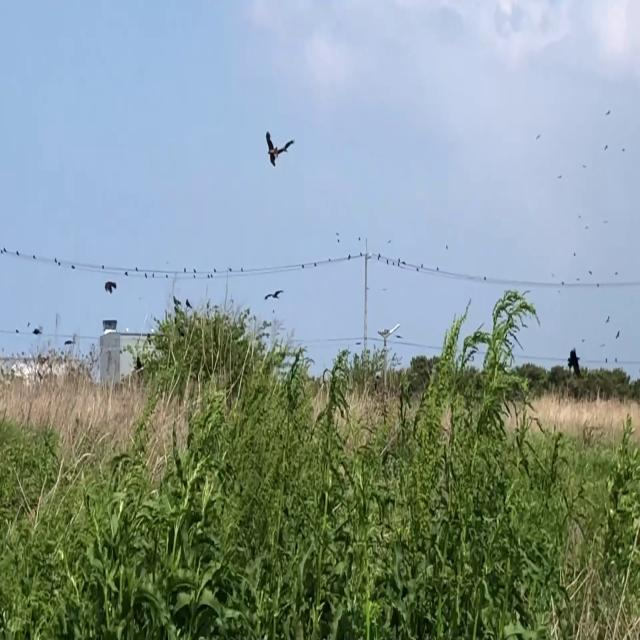bird: (264, 124, 295, 175), (265, 282, 283, 306), (569, 341, 579, 376), (105, 273, 116, 297)
